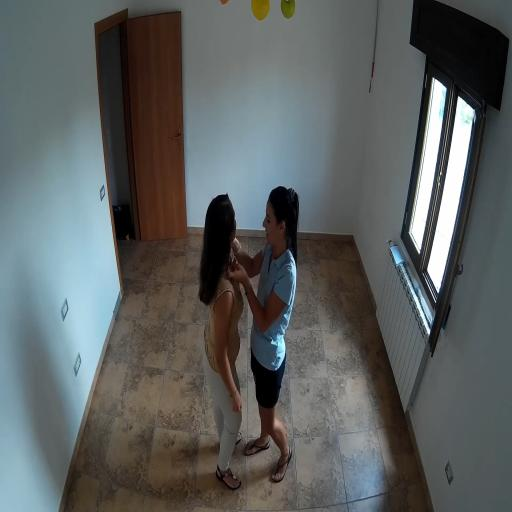nao-violencia: (186, 169, 309, 503)
